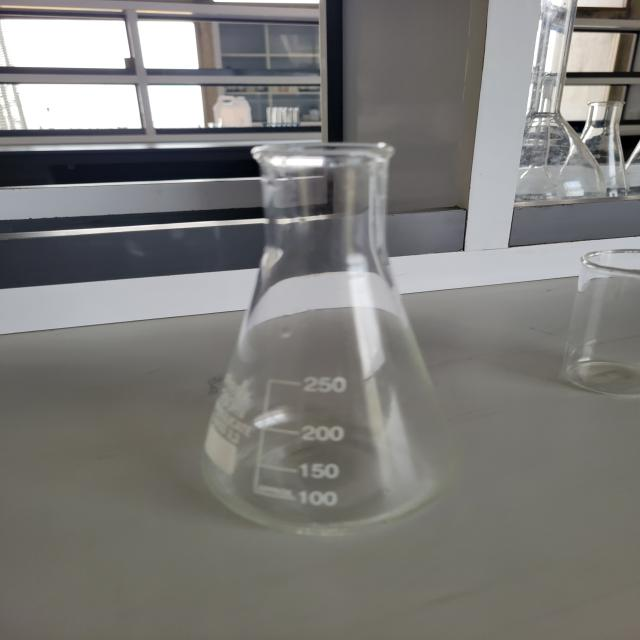Beaker: (548, 229, 640, 406)
Conical_Flask: (134, 110, 480, 558)
